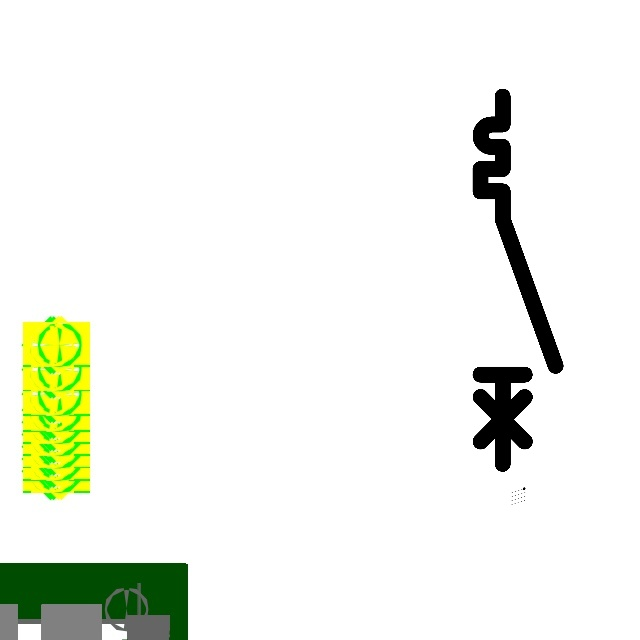interruptor_termomagnetico: (471, 87, 565, 474)
